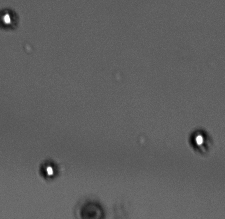Dead Cell: (78, 201, 105, 217)
Living Cell: (188, 126, 211, 151), (38, 160, 61, 181), (1, 8, 18, 31)
